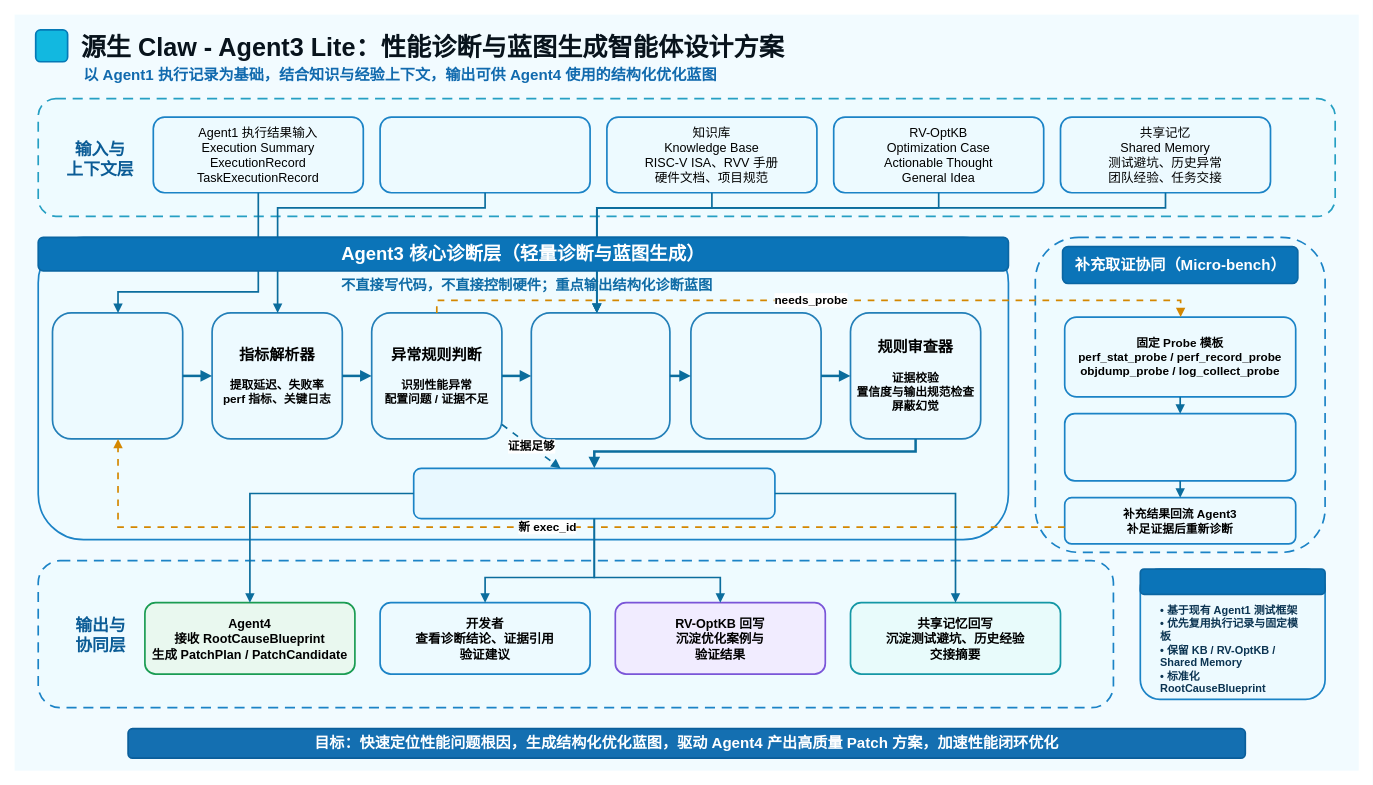
Some shapes in this 1373 by 785 pixel diagram are drawn without their labels. Here are the shapes that lost their labels. From the top down, the centre of each, then its label:
the point at 51,45: A3
the point at 485,154: Agent1 执行产物 MinIO 日志、Excel perf_stat / perf_record objdump
the point at 117,375: 执行加载器 读取 exec_id 摘要、产物引用
the point at 600,375: 上下文检索器 检索 Knowledge Base RV-OptKB / Shared Memory
the point at 756,375: 轻量诊断器 LLM 生成根因候选 优化方向、诊断结论
the point at 1179,446: 通过 MCP-1 调用 Agent1 复用现有测试计划与 pipeline 正常排队执行
the point at 593,493: 蓝图生成器 输出 RootCauseBlueprint，供 Agent4 使用
the point at 1232,581: 关键要点
